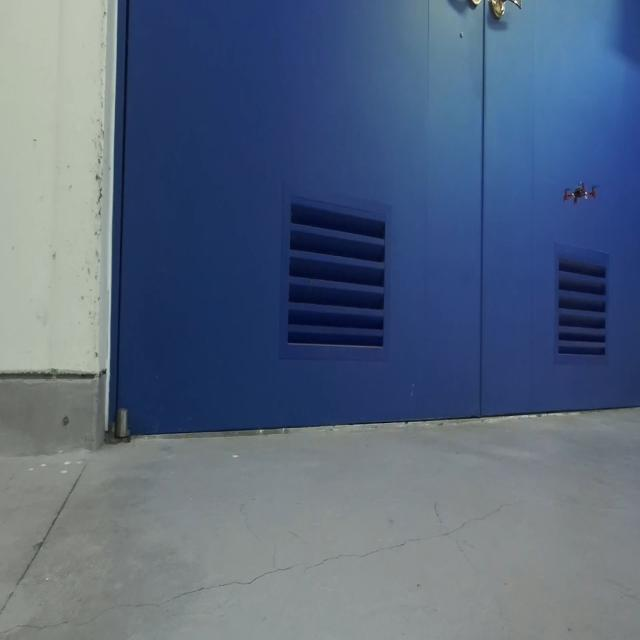crazyflie: (561, 174, 598, 214)
